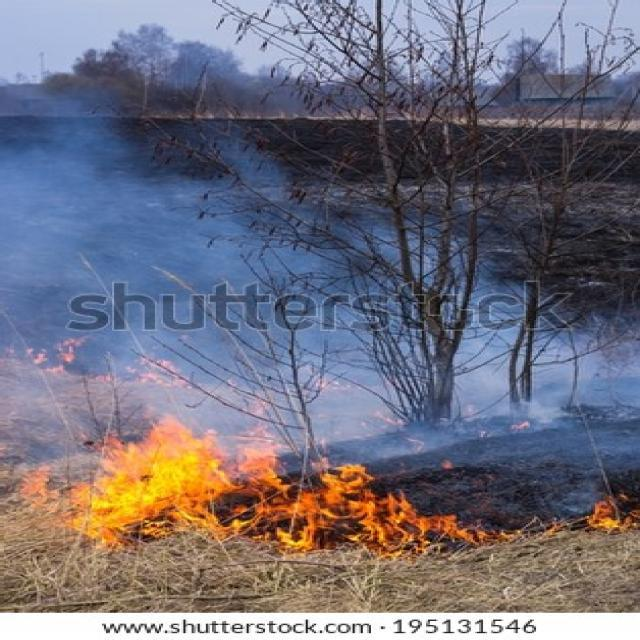Fire: (49, 417, 510, 566)
Smoke: (0, 74, 628, 433)
